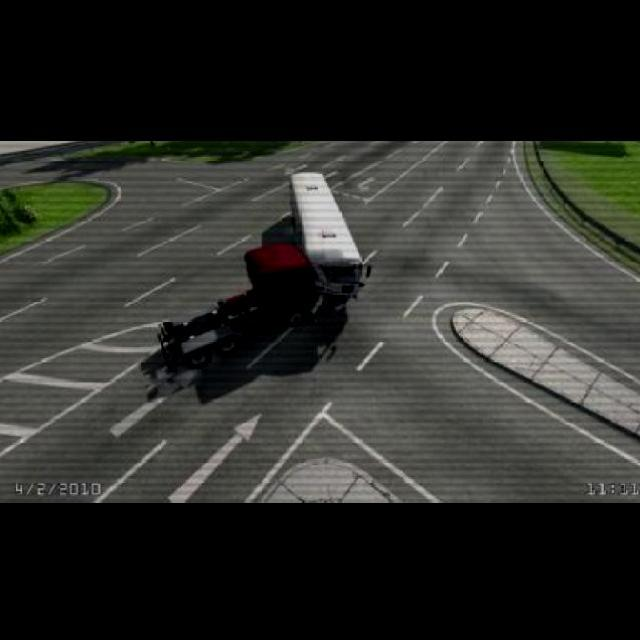accident: (252, 250, 368, 320)
